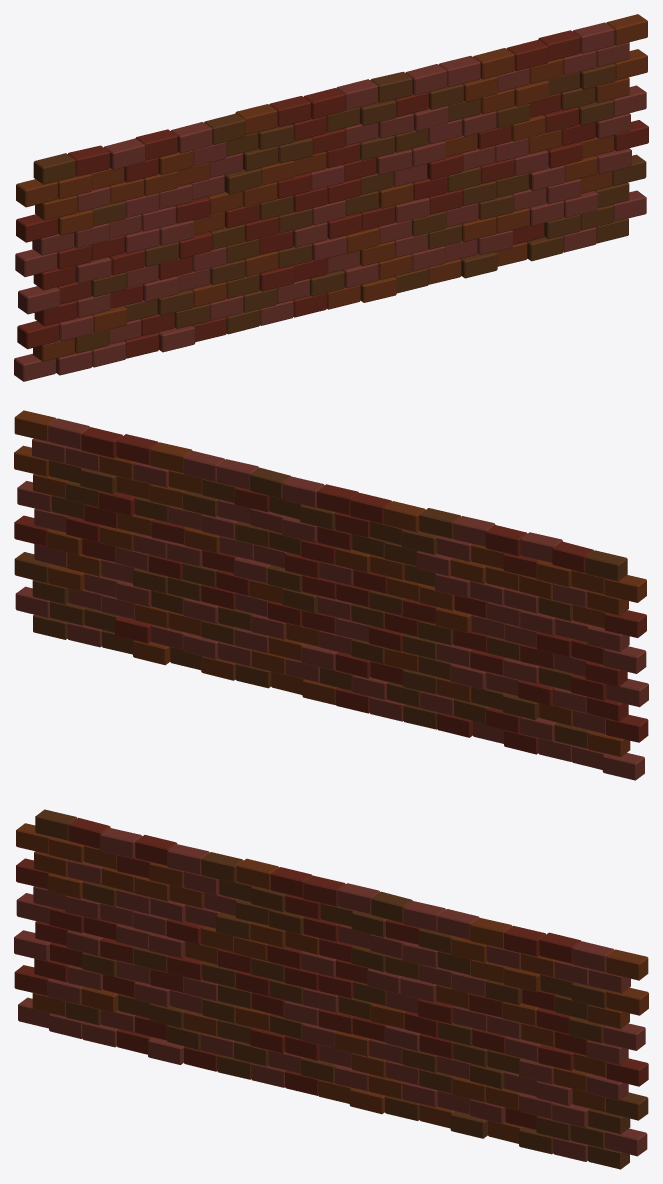
File: Brick Wall.obj
3 views of the same model, one above another, from view 1: azimuth 30°, elevation 25°; view 2: azimuth 150°, elevation 25°; view 3: azimuth 330°, elevation 25° (orthographic).
Visible parts, largest first — view 1: Cube_M_Bricks_Var_2_0, Cube_M_Bricks_Var_4_0, Cube_M_Bricks_Var_3_0, Cube_M_Bricks_Var_1_0; view 2: Cube_M_Bricks_Var_2_0, Cube_M_Bricks_Var_3_0, Cube_M_Bricks_Var_4_0, Cube_M_Bricks_Var_1_0; view 3: Cube_M_Bricks_Var_2_0, Cube_M_Bricks_Var_4_0, Cube_M_Bricks_Var_3_0, Cube_M_Bricks_Var_1_0.
Boxes of the visible parts, x1,y1,x2,y2 form: Cube_M_Bricks_Var_2_0: (14, 22, 646, 381); Cube_M_Bricks_Var_4_0: (33, 63, 646, 353); Cube_M_Bricks_Var_3_0: (16, 30, 648, 358); Cube_M_Bricks_Var_1_0: (16, 14, 647, 361); Cube_M_Bricks_Var_2_0: (15, 418, 648, 780); Cube_M_Bricks_Var_3_0: (14, 427, 648, 754); Cube_M_Bricks_Var_4_0: (14, 460, 627, 748); Cube_M_Bricks_Var_1_0: (14, 410, 646, 756); Cube_M_Bricks_Var_2_0: (14, 827, 647, 1161); Cube_M_Bricks_Var_4_0: (35, 809, 648, 1169); Cube_M_Bricks_Var_3_0: (14, 817, 648, 1129); Cube_M_Bricks_Var_1_0: (16, 823, 648, 1143).
Size of the model in its own units: 5.87 by 1.9 by 0.2354.
